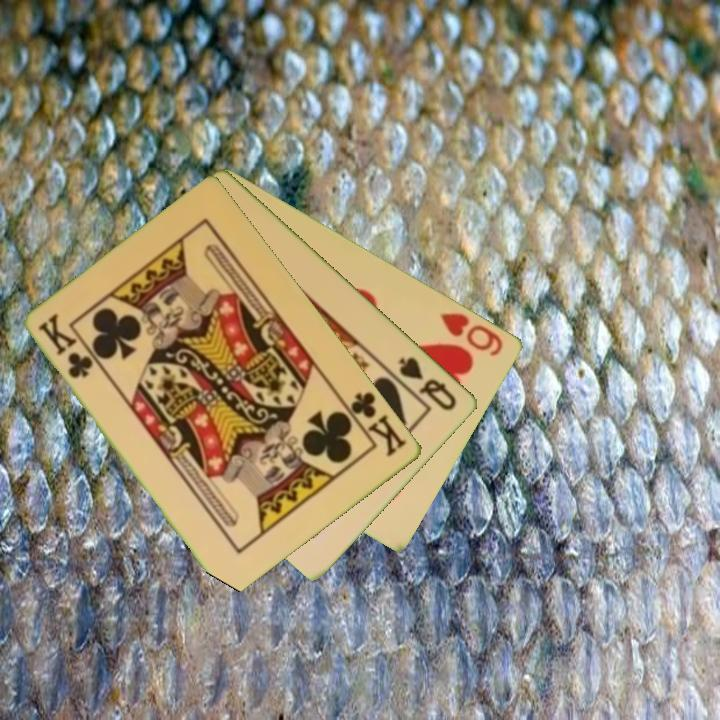6h: (437, 309, 507, 360)
Kc: (339, 388, 410, 460), (34, 311, 97, 382)
Qs: (395, 353, 460, 414)
